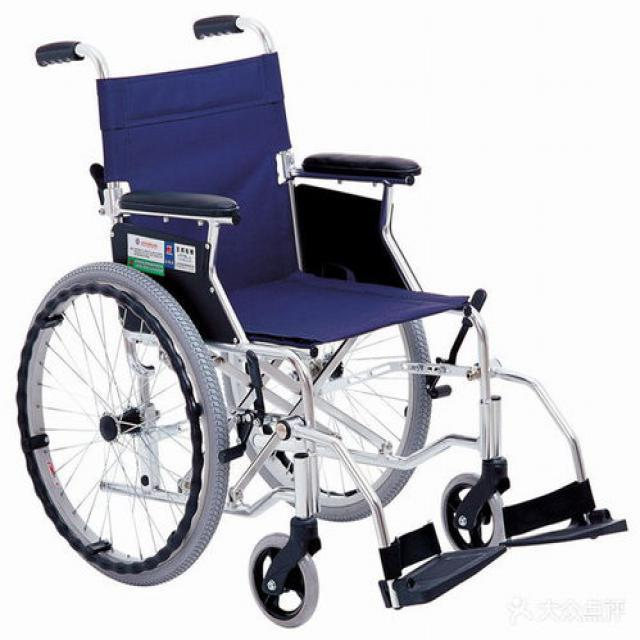wheelchairs: (21, 12, 628, 629)
